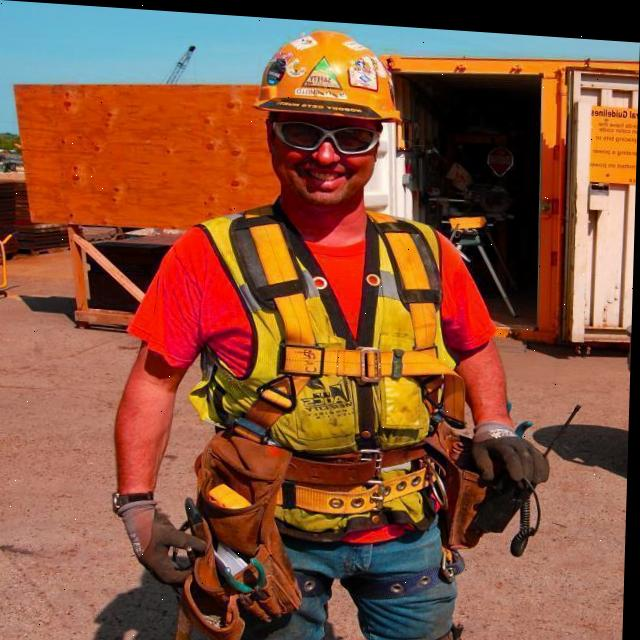Glass: (272, 114, 383, 149)
Gloves: (114, 488, 212, 585), (473, 410, 555, 489)
Helmet: (254, 20, 409, 118)
Safety-Vest: (199, 197, 450, 445)
